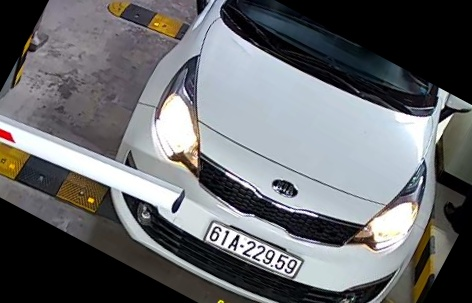plate: (202, 219, 316, 283)
